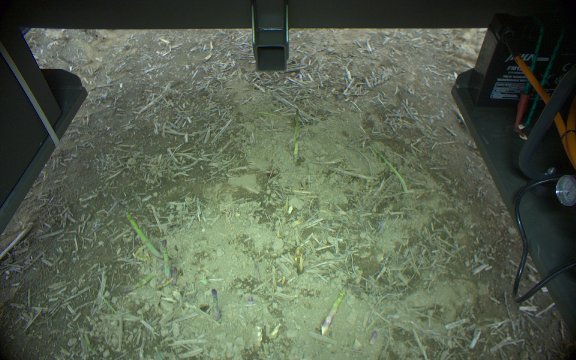aspa: (118, 201, 161, 259), (366, 146, 408, 194), (320, 282, 349, 335), (160, 238, 173, 281), (207, 288, 222, 321), (290, 105, 302, 143)
